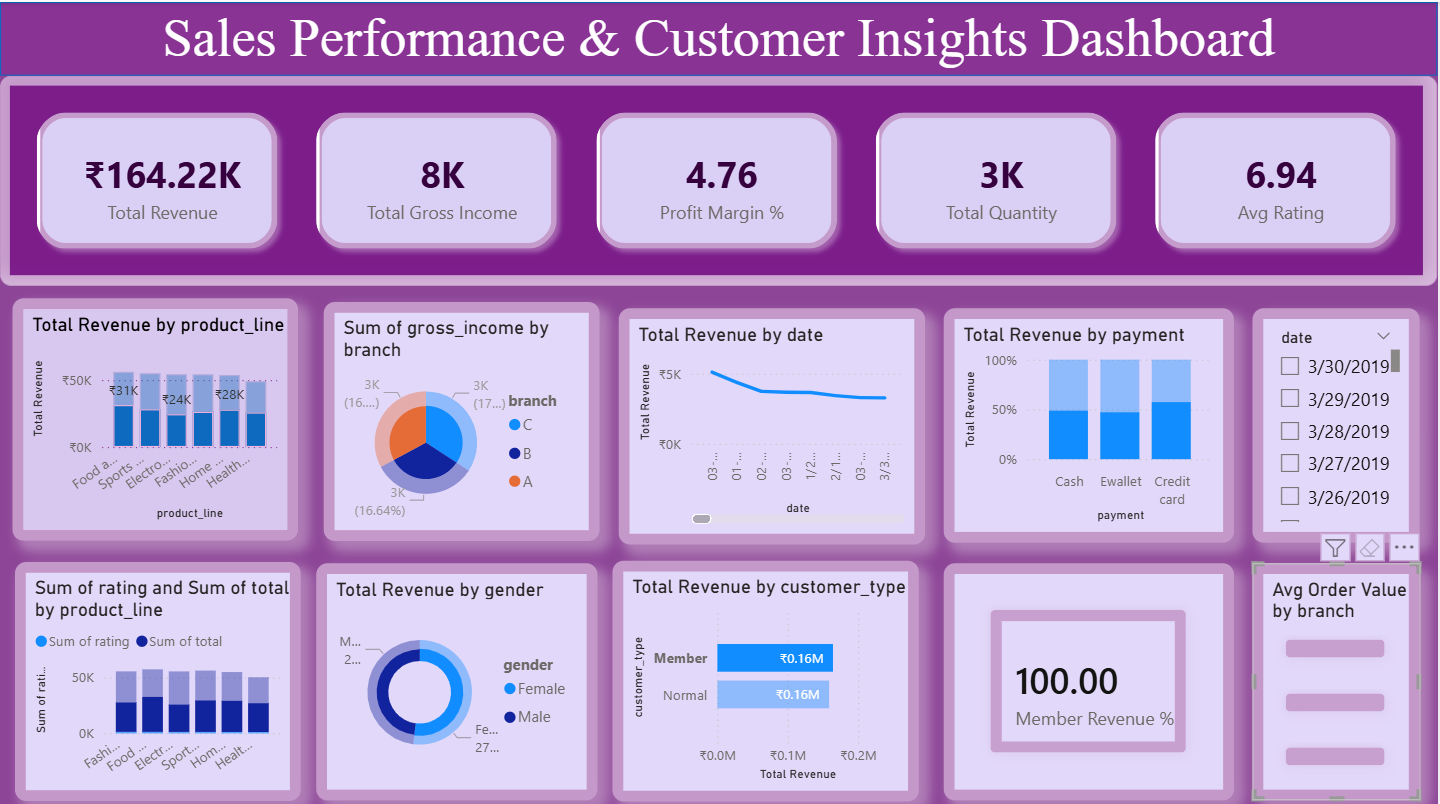

The dashboard page shown, as its layout file describes it:
{"tool":"powerbi","page":{"name":"Page 1","canvas":[1280,720],"ordinal":0},"visuals":[{"type":"cardVisual","fields":{"Data":["public sales_data.Total Revenue","public sales_data.Total Gross Income","public sales_data.Profit Margin %","public sales_data.Total Quantity","public sales_data.Avg Rating"]},"box":[0,65.7,1280,187.1],"z":0},{"type":"pieChart","fields":{"Category":["public sales_data.branch"],"Y":["Sum(public sales_data.gross_income)"]},"box":[288.6,267.1,245.7,212.9],"z":1000},{"type":"clusteredColumnChart","fields":{"Category":["public sales_data.product_line"],"Y":["public sales_data.Total Revenue"]},"box":[11.4,264.3,254.3,215.7],"z":2000},{"type":"lineChart","fields":{"Category":["public sales_data.date"],"Y":["public sales_data.Total Revenue"]},"box":[551.4,272.9,272.9,210],"z":3000},{"type":"hundredPercentStackedColumnChart","fields":{"Category":["public sales_data.payment"],"Y":["public sales_data.Total Revenue"]},"box":[840,272.9,258.6,208.6],"z":4000},{"type":"lineStackedColumnComboChart","fields":{"Y":["Sum(public sales_data.rating)","Sum(public sales_data.total)"],"Category":["public sales_data.product_line"]},"box":[12.9,498.6,254.3,212.9],"z":5000},{"type":"donutChart","fields":{"Category":["public sales_data.gender"],"Y":["public sales_data.Total Revenue"]},"box":[281.4,500,250,211.4],"z":6000},{"type":"clusteredBarChart","fields":{"Category":["public sales_data.customer_type"],"Y":["public sales_data.Total Revenue"]},"box":[545.7,497.1,272.9,214.3],"z":7000},{"type":"cardVisual","fields":{"Data":["public sales_data.Member Revenue %"]},"box":[840,500,258.6,211.4],"z":8000},{"type":"slicer","fields":{"Values":["public sales_data.date"]},"box":[1115.7,272.9,148.6,208.6],"z":9000},{"type":"shape","box":[0,0,1280,65.7],"z":10000},{"type":"textbox","box":[0,0,1280,65.7],"z":11000},{"type":"cardVisual","fields":{"Data":["public sales_data.Avg Order Value"]},"box":[1115.7,500,148.6,211.4],"z":12000}]}

Visuals, with their boxes in screenshot pixels (x1, y1, x2, y2), scaled from the page's 1280x720 canvas onto the 1440x804 screenshot:
cardVisual - public sales_data.Total Revenue x public sales_data.Total Gross Income: 0/73/1439/282
pieChart - public sales_data.branch x Sum(public sales_data.gross_income): 325/298/601/536
clusteredColumnChart - public sales_data.product_line x public sales_data.Total Revenue: 13/295/299/536
lineChart - public sales_data.date x public sales_data.Total Revenue: 620/305/927/539
hundredPercentStackedColumnChart - public sales_data.payment x public sales_data.Total Revenue: 945/305/1236/538
lineStackedColumnComboChart - Sum(public sales_data.rating) x Sum(public sales_data.total): 15/557/301/795
donutChart - public sales_data.gender x public sales_data.Total Revenue: 317/558/598/794
clusteredBarChart - public sales_data.customer_type x public sales_data.Total Revenue: 614/555/921/794
cardVisual - public sales_data.Member Revenue %: 945/558/1236/794
slicer - public sales_data.date: 1255/305/1422/538
shape: 0/0/1439/73
textbox: 0/0/1439/73
cardVisual - public sales_data.Avg Order Value: 1255/558/1422/794
